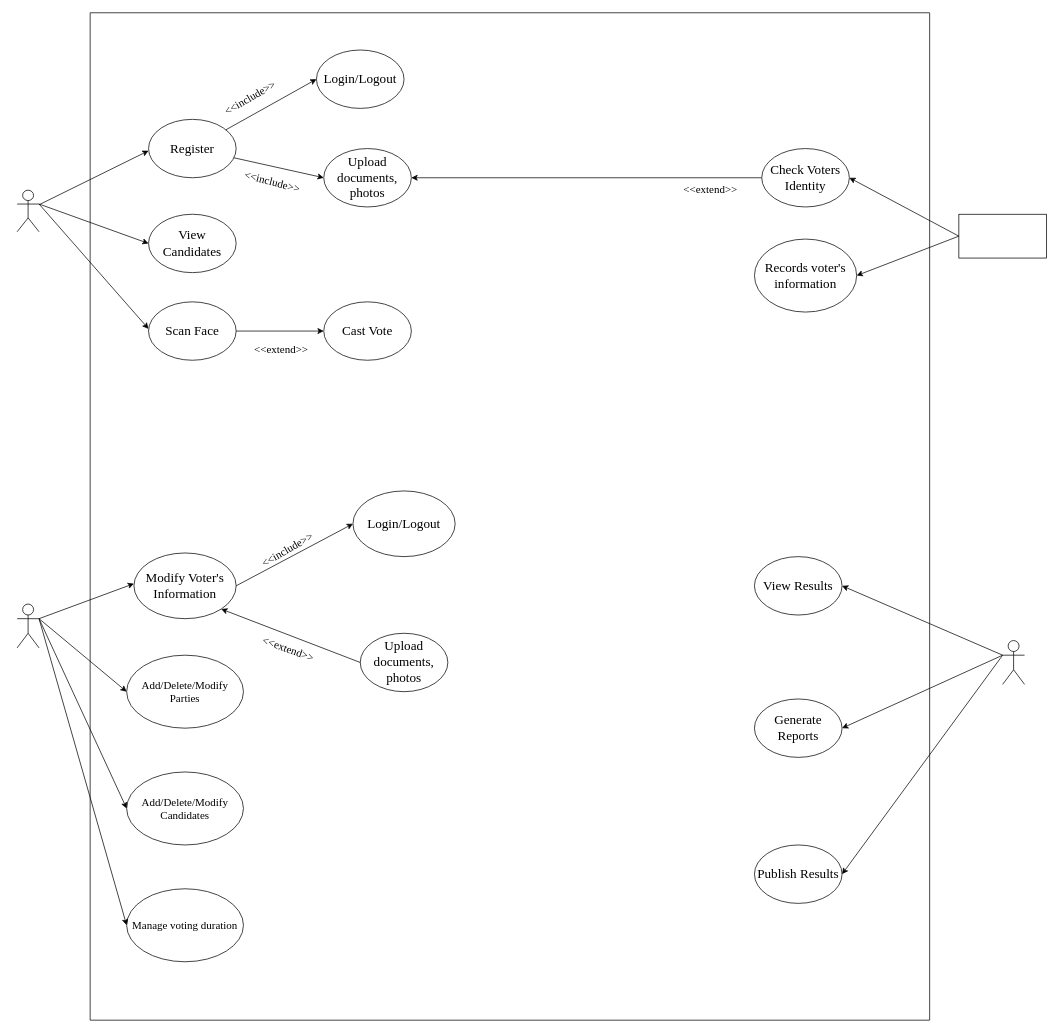
Some shapes in this 1059 by 1033 pixel diagram are drawn without their labels. The centre of each missing label's shape, as x and y in pixels:
"Admin" goes at point 27,625.
"Election Authority" goes at point 1013,662.
"System" goes at point 1002,236.
"Voter" goes at point 27,210.
